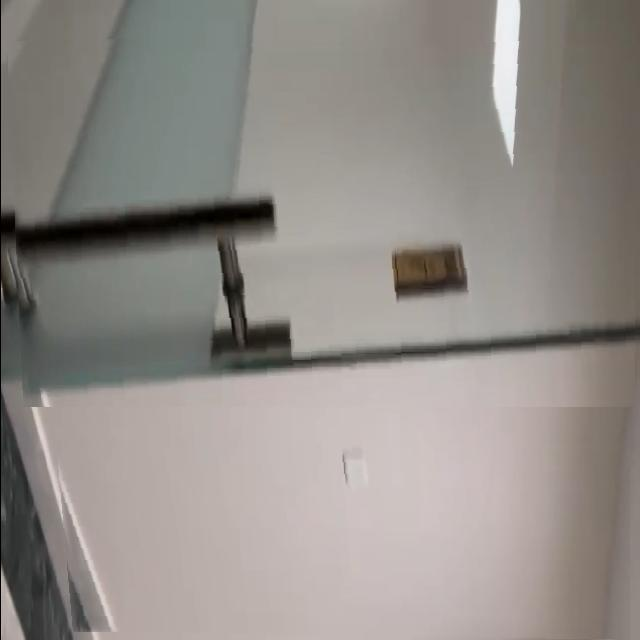door: (6, 27, 634, 407)
wall: (54, 438, 629, 640)
